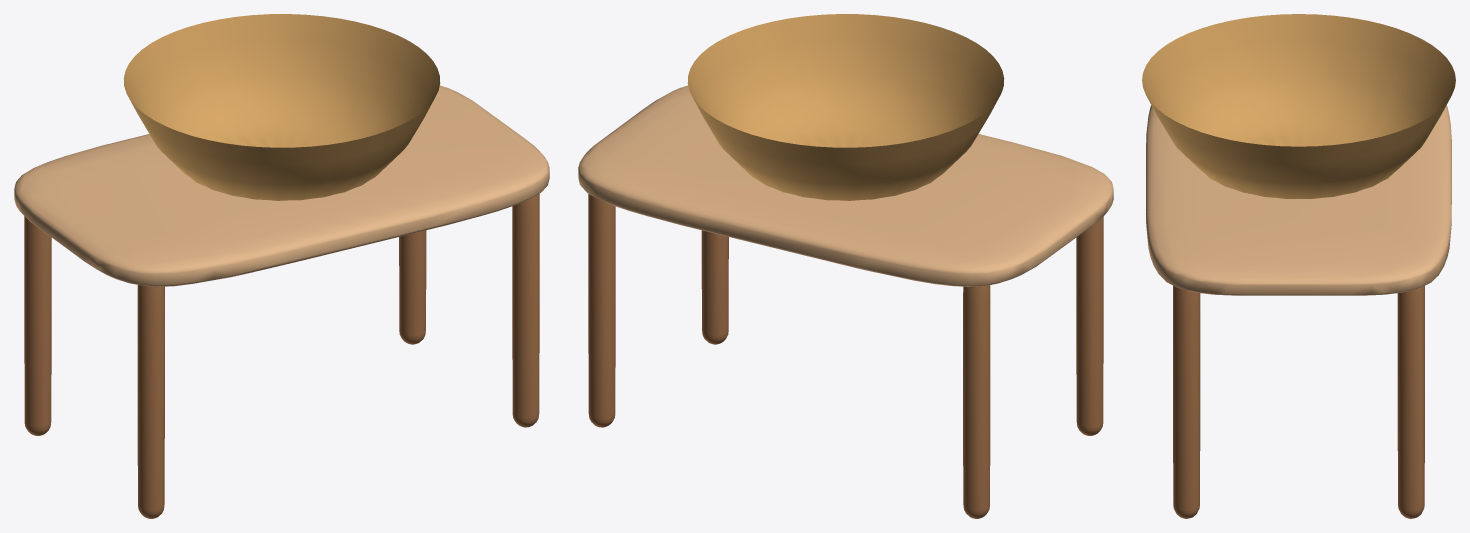
Rendered from vitrina_panaderia_1.glb.
The picture shows the model from 3 angles, left to right: view 1: azimuth 30°, elevation 25°; view 2: azimuth 150°, elevation 25°; view 3: azimuth 270°, elevation 25°; orthographic projection.
Visible parts, largest first — view 1: mesa, canasto, pata, pata.002, pata.001, pata.003; view 2: mesa, canasto, pata.001, pata.003, pata, pata.002; view 3: canasto, mesa, pata.002, pata.003.
Part boxes in pixels (box(x1,y1,x2,y2)): mesa: box(14, 85, 549, 286); canasto: box(123, 14, 440, 200); pata: box(137, 285, 164, 518); pata.002: box(512, 193, 539, 427); pata.001: box(24, 216, 51, 435); pata.003: box(399, 230, 426, 344); mesa: box(578, 85, 1113, 286); canasto: box(687, 14, 1004, 200); pata.001: box(963, 285, 990, 518); pata.003: box(588, 194, 615, 427); pata: box(1076, 216, 1103, 435); pata.002: box(701, 230, 728, 344); canasto: box(1142, 14, 1455, 198); mesa: box(1146, 105, 1451, 295); pata.002: box(1173, 285, 1200, 518); pata.003: box(1397, 286, 1424, 518).
Size of the model in its own units: 0.999 by 0.7495 by 0.6148.
